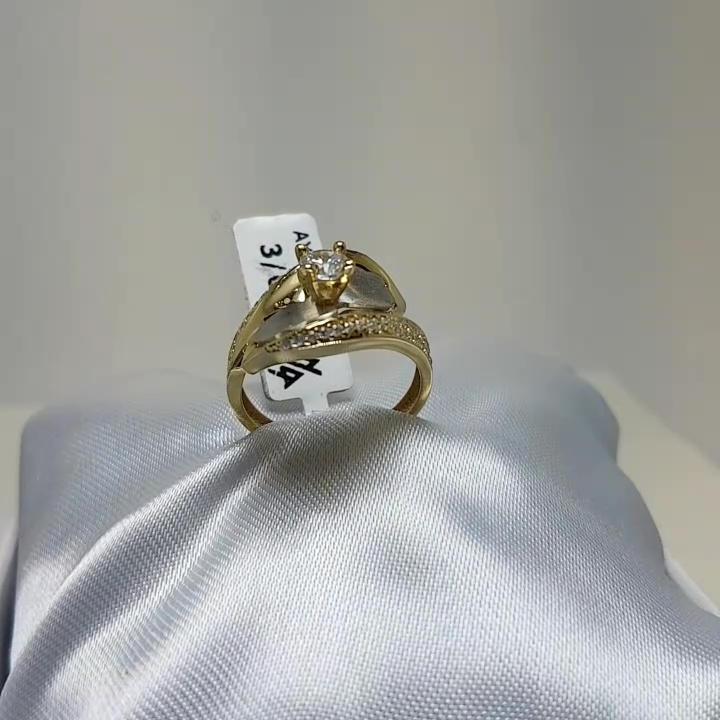Ring 6: (178, 228, 450, 473)
